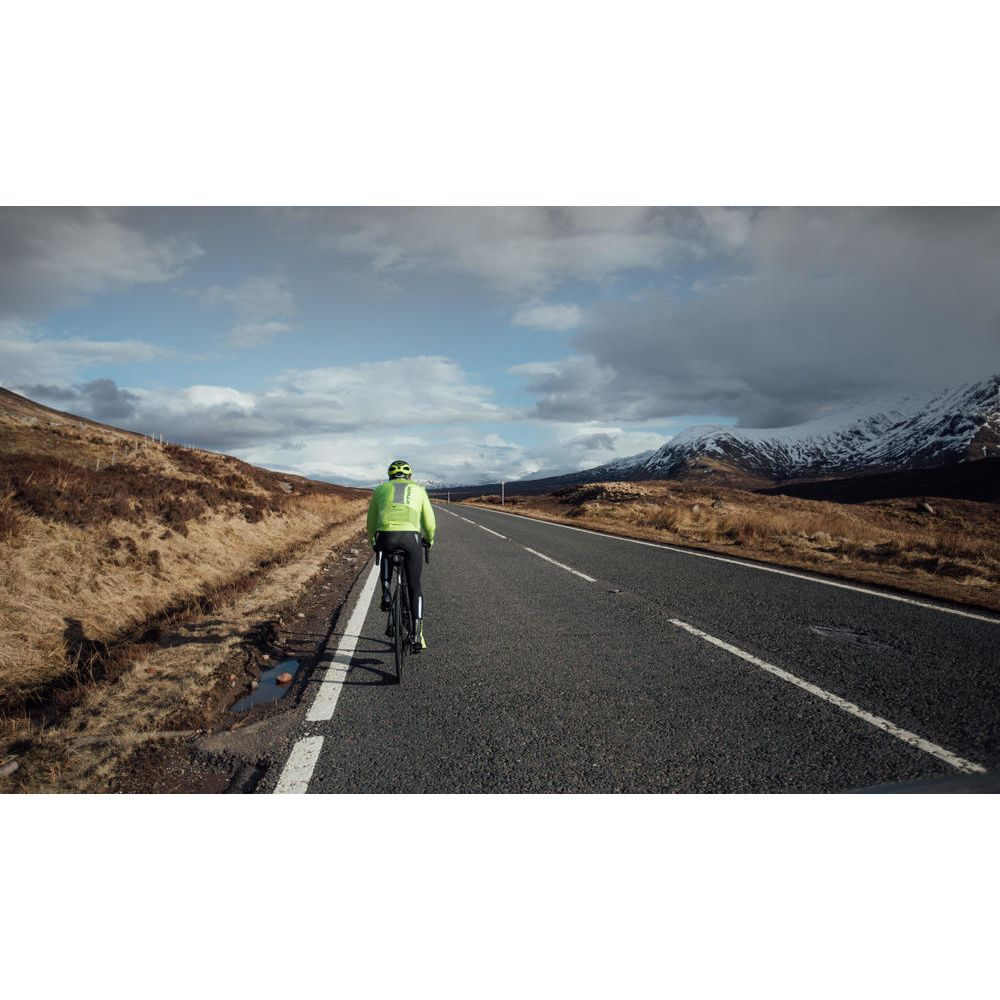RoadBike: (368, 538, 439, 676)
